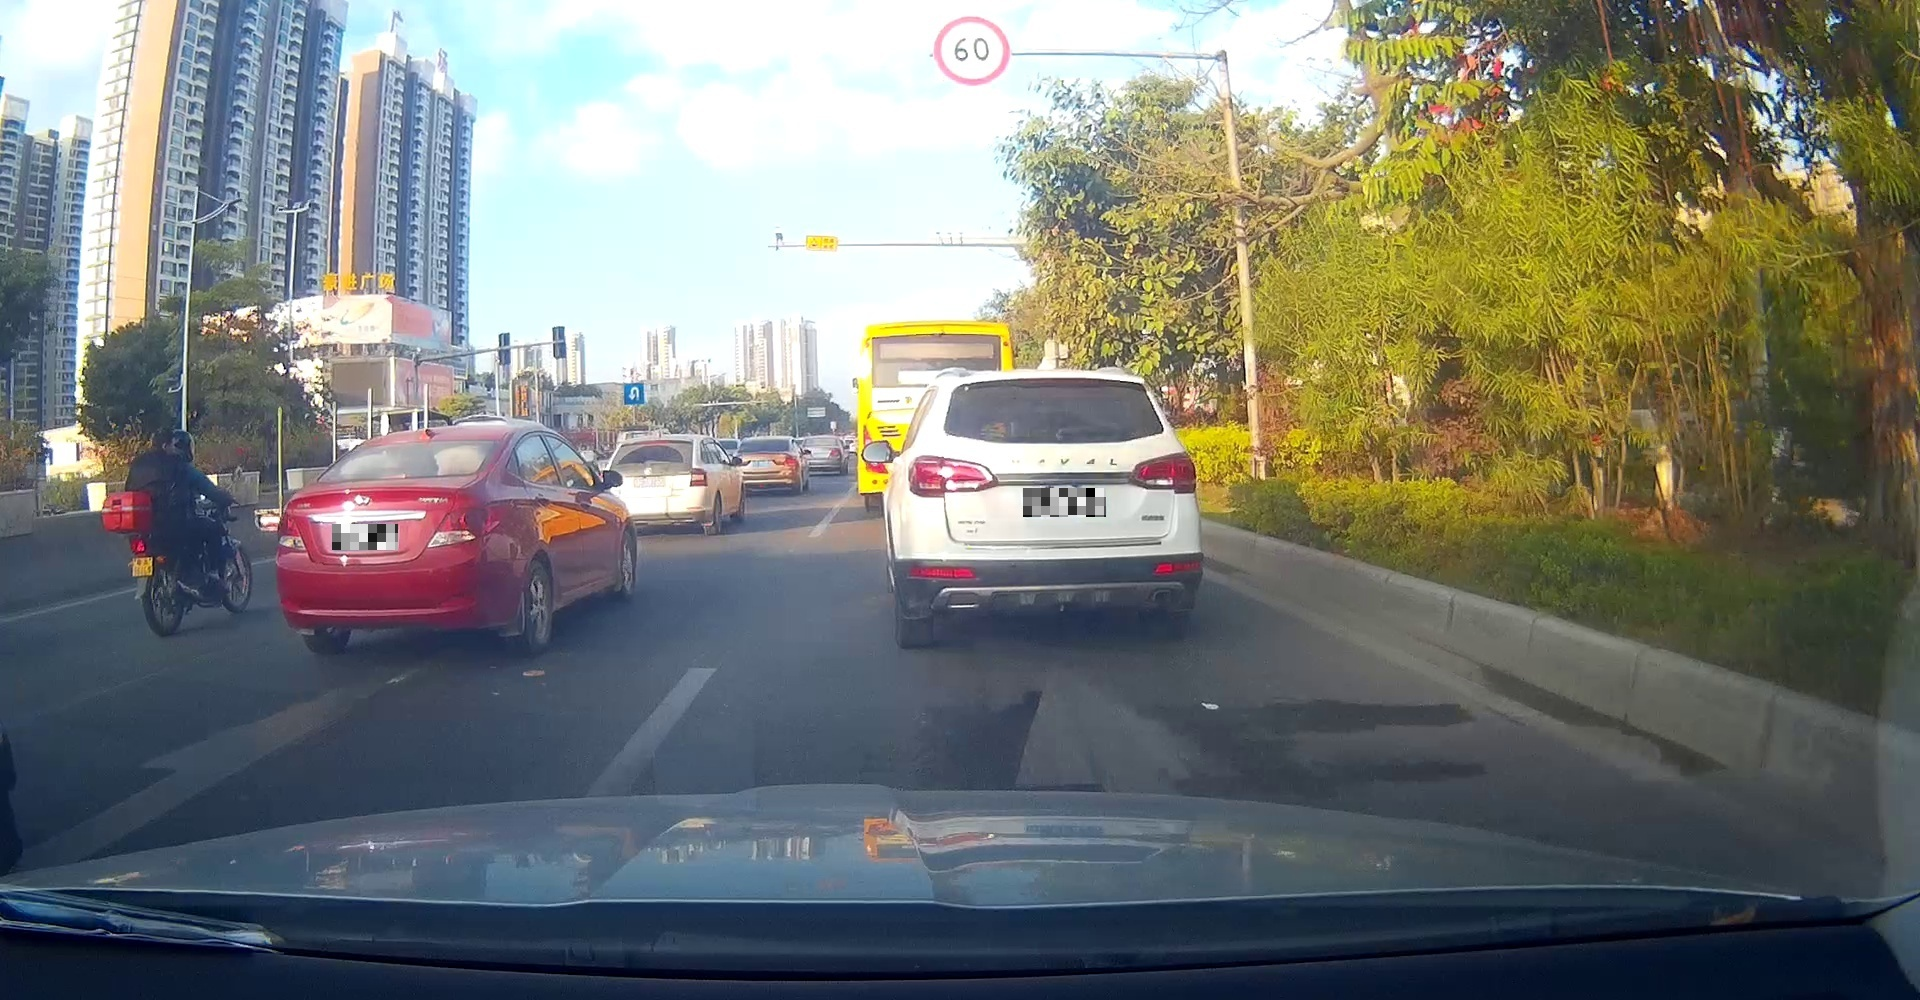L_light: (907, 456, 1001, 497), (276, 511, 307, 551)
R_light: (425, 504, 512, 549), (1128, 451, 1197, 494)
T_light: (1032, 378, 1088, 387), (377, 475, 410, 480)
day-no: (894, 367, 1204, 648), (274, 425, 516, 655)
plate_1: (331, 524, 397, 549)
plate_2: (1023, 489, 1106, 516)
